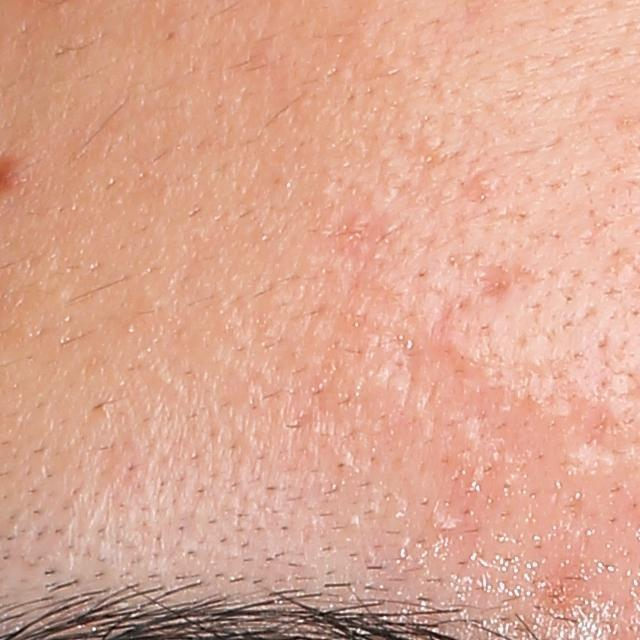atrophic_scar: (571, 402, 625, 470), (478, 266, 515, 300)
comedo: (471, 171, 491, 194)
